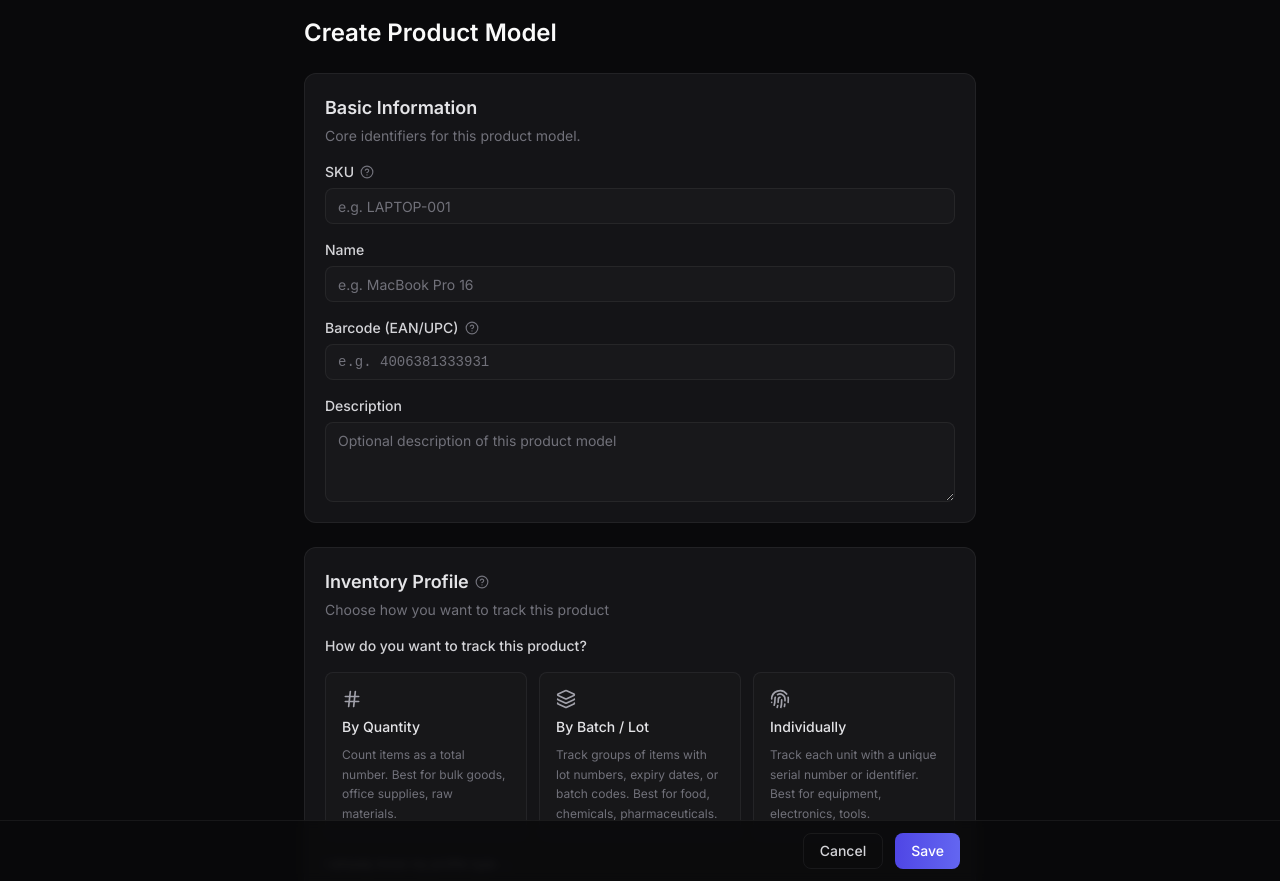
Test: ProductModelCreate Form › shows initial stock section for BULK profiles
This screenshot has width=1280, height=881.
Click the text "By Quantity".
click(381, 727)  # box x1=342 y1=717 x2=420 y2=737
(page scrolled)
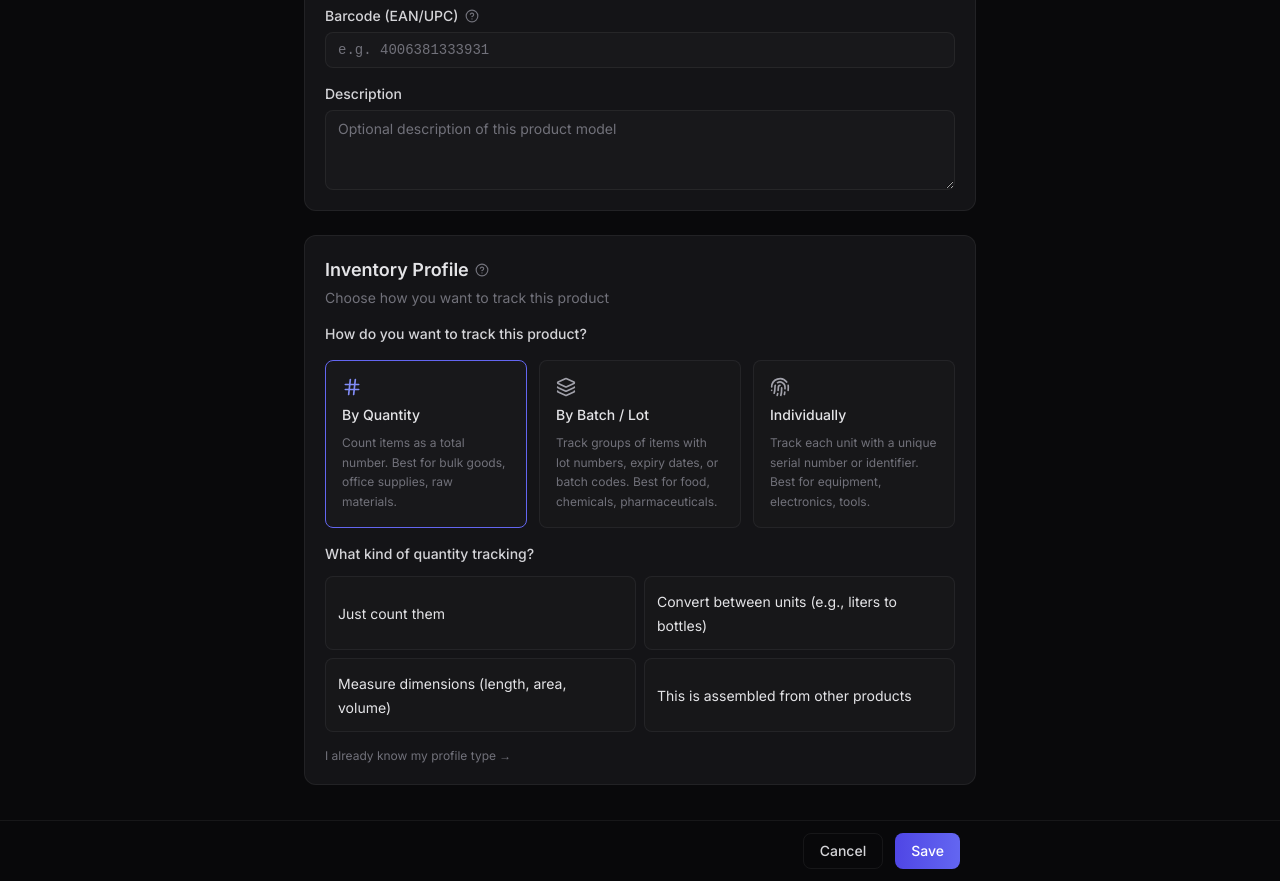
Expected: the text "Just count them" is shown, x1=338 y1=605 x2=445 y2=622
Click the button "Just count them".
click(391, 614)  # box x1=325 y1=576 x2=636 y2=650
(page scrolled)
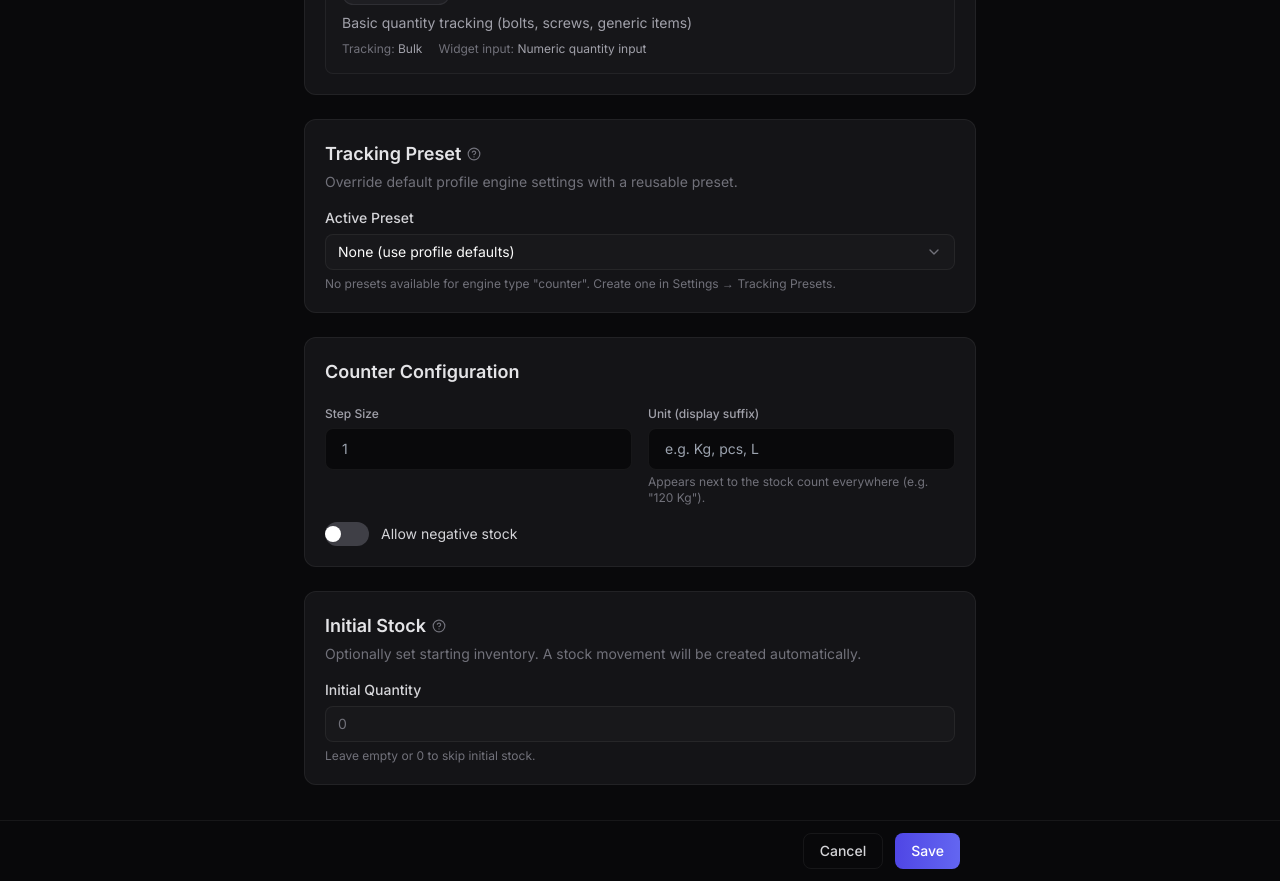
Expected: the heading "Initial Stock" is shown, x1=325 y1=612 x2=446 y2=640
